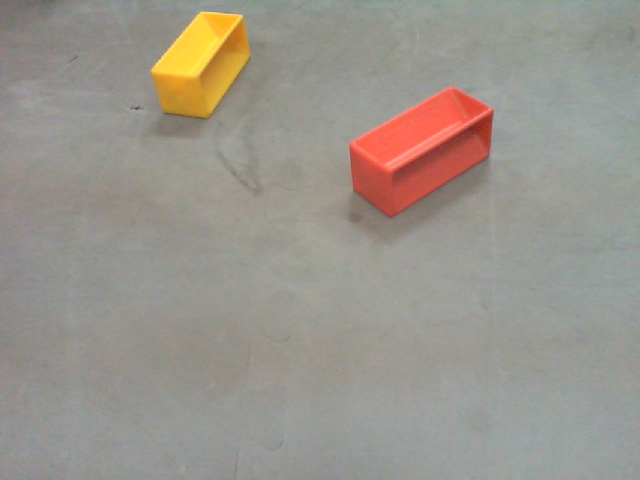RedSample: (346, 84, 499, 223)
YellowSample: (150, 7, 249, 125)
